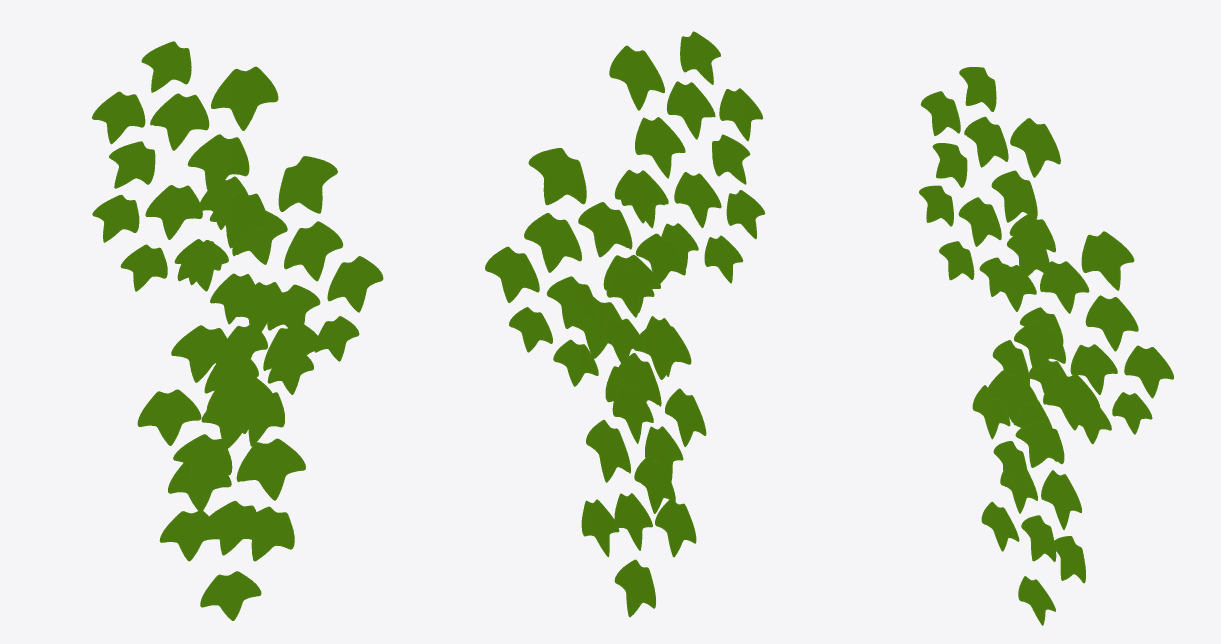
The model's file is Prop_Vine4.glb.
3 renders of one model, left to right at view 1: azimuth 30°, elevation 25°; view 2: azimuth 150°, elevation 25°; view 3: azimuth 330°, elevation 25°, orthographic. The views are drawn at different scales.
Visible parts, largest first — view 1: Prop_Vine4; view 2: Prop_Vine4; view 3: Prop_Vine4.
Part boxes in pixels (left/top/right/bottom): Prop_Vine4: left=92, top=41, right=383, bottom=620; Prop_Vine4: left=485, top=31, right=765, bottom=617; Prop_Vine4: left=919, top=67, right=1173, bottom=625.
Bounding box in the file's own units: 1.02 × 1.59 × 0.15.
1 material, 1 textured.
